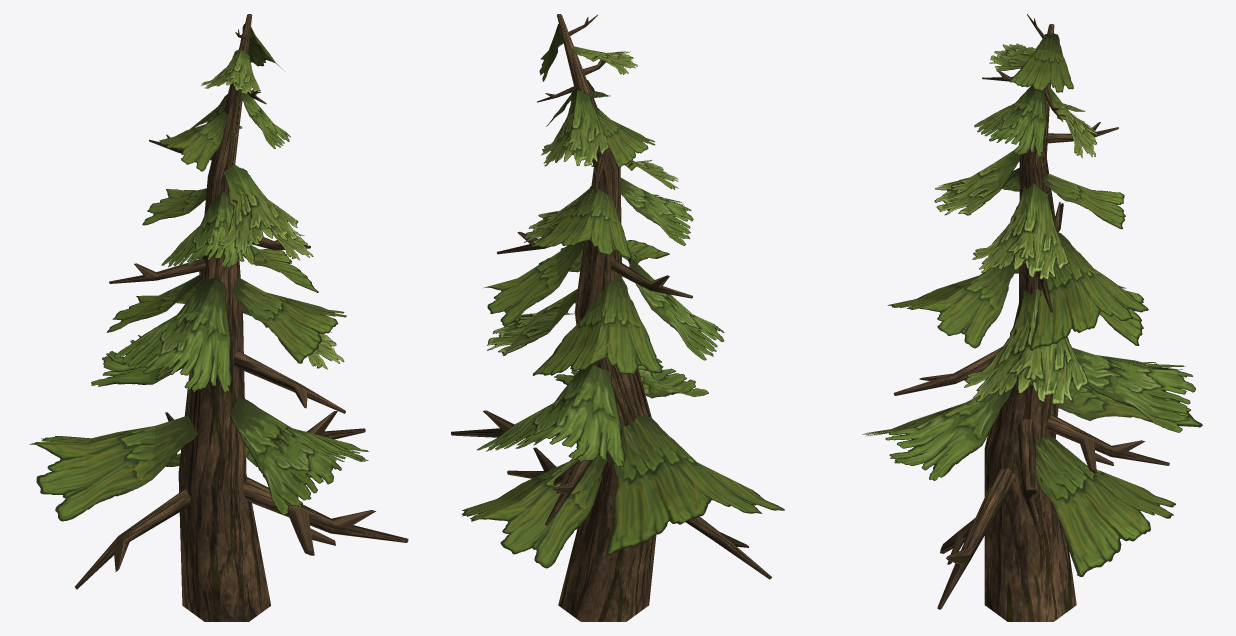
File: Tree2.fbx
3 renders of one model, left to right at view 1: azimuth 30°, elevation 25°; view 2: azimuth 150°, elevation 25°; view 3: azimuth 270°, elevation 25°, orthographic. The views are drawn at different scales.
Parts seen in each view (by area): view 1: Leaves_01, trunk_01; view 2: Leaves_01, trunk_01; view 3: Leaves_01, trunk_01.
Part boxes in pixels (x1,y1,x2,y2): Leaves_01: [29, 24, 368, 521]; trunk_01: [75, 14, 408, 621]; Leaves_01: [461, 24, 784, 568]; trunk_01: [451, 14, 771, 621]; Leaves_01: [862, 33, 1202, 576]; trunk_01: [893, 14, 1169, 621].
Bounding box in the file's own units: 4.64 × 7.31 × 4.27.
Materials: 2 (2 with a texture image).
